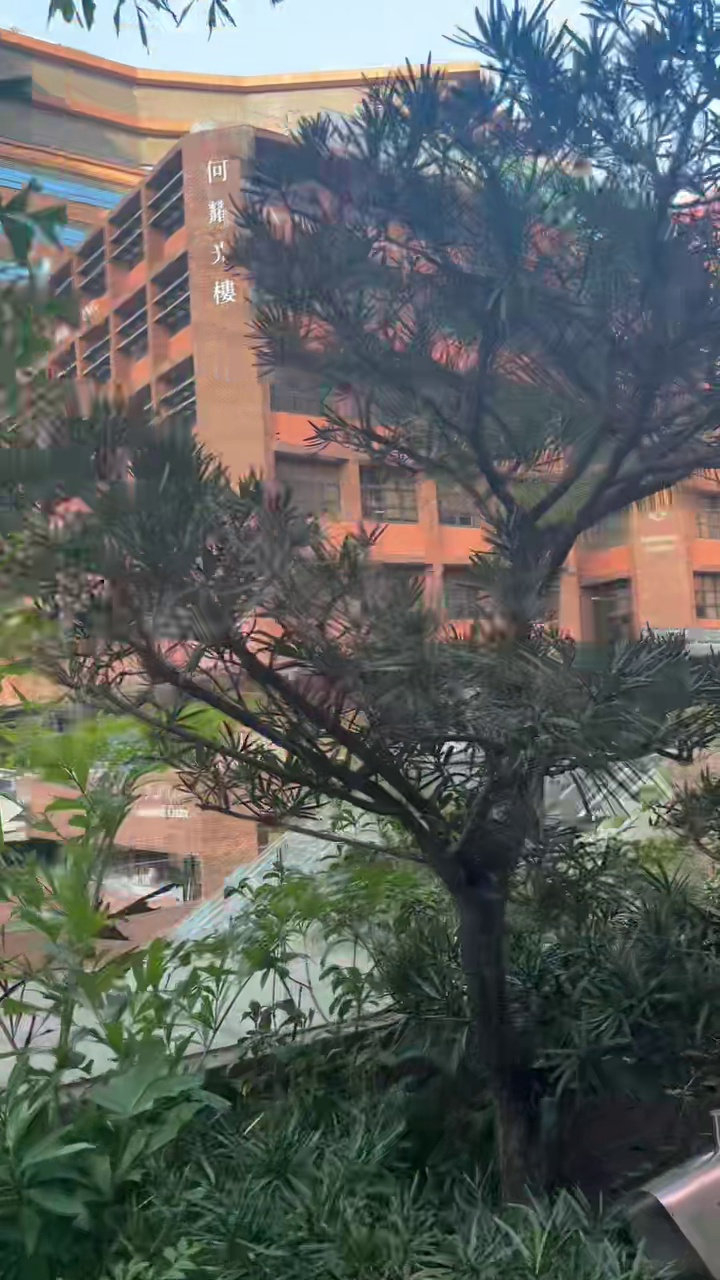Podocarpus macrophyllus: (33, 0, 719, 1190)
